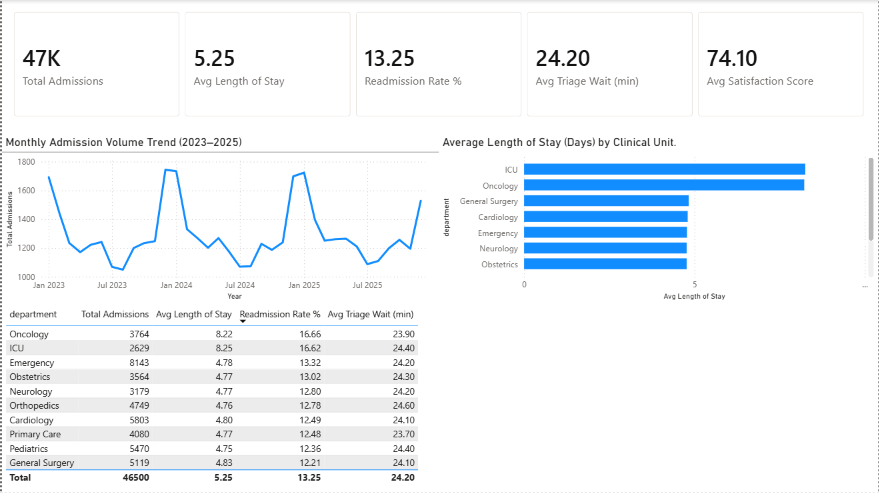

Layout of this report page (visuals, bound fields, positions):
{"tool":"powerbi","page":{"name":"Executive Summary","canvas":[1280,720],"ordinal":0},"visuals":[{"type":"cardVisual","fields":{"Data":["admissions_features.Total Admissions","admissions_features.Avg Length of Stay","admissions_features.Readmission Rate %","admissions_features.Avg Triage Wait (min)","admissions_features.Avg Satisfaction Score"]},"box":[0,0,1278.8,187.1],"z":0},{"type":"lineChart","title":"Monthly Admission Volume Trend (2023–2025)","fields":{"Y":["admissions_features.Total Admissions"],"Category":["Calendar.Date.Variation.Date Hierarchy.Year","Calendar.Date.Variation.Date Hierarchy.Month"]},"box":[0,197.3,638.7,245.5],"z":1000},{"type":"clusteredBarChart","title":"Average Length of Stay (Days) by Clinical Unit.","fields":{"Category":["departments.department"],"Y":["admissions_features.Avg Length of Stay"]},"box":[638.7,197.3,640.1,245.5],"z":2000},{"type":"tableEx","fields":{"Values":["departments.department","admissions_features.Total Admissions","admissions_features.Avg Length of Stay","admissions_features.Readmission Rate %","admissions_features.Avg Triage Wait (min)"]},"box":[0,442.8,1278.8,277.7],"z":3000}]}

Visuals, with their boxes in screenshot pixels (x1, y1, x2, y2), scaled from the page's 1280x720 canvas onto the 879x493 screenshot:
cardVisual - admissions_features.Total Admissions x admissions_features.Avg Length of Stay: (0,0,878,128)
"Monthly Admission Volume Trend (2023–2025)" lineChart: (0,135,439,303)
"Average Length of Stay (Days) by Clinical Unit." clusteredBarChart: (439,135,878,303)
tableEx - departments.department x admissions_features.Total Admissions: (0,303,878,492)
